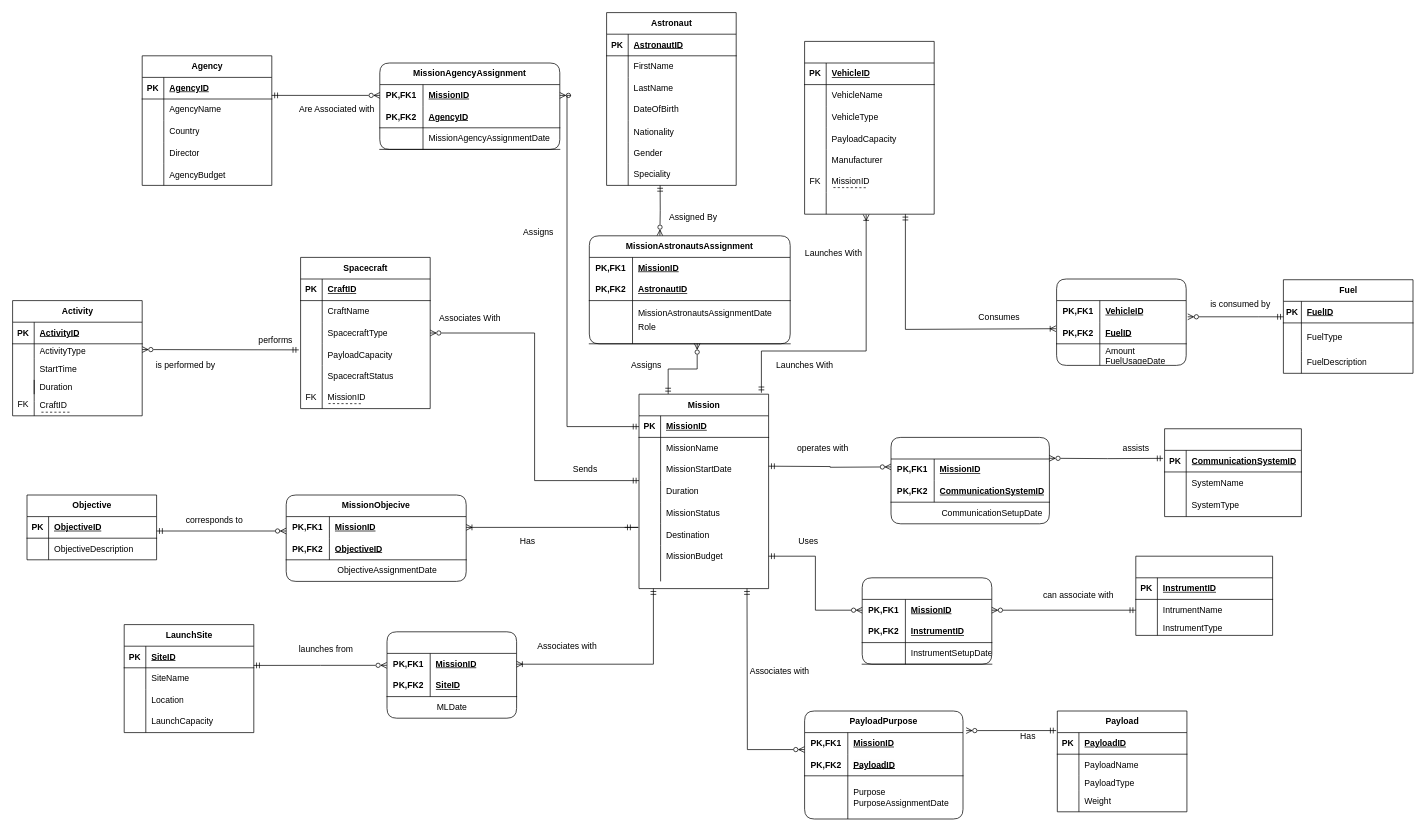
The diagram is 1426 pixels wide and 832 high, and some of its shapes have lost their labels. Here are the shapes that lost their labels. From the top down, the box of each, then its label:
(804, 41, 934, 214): LaunchVehicle
(1056, 278, 1186, 365): VehicleFuelConsumption
(890, 437, 1049, 524): MissionCommunications
(1164, 428, 1301, 517): ComunicationSystem
(1135, 555, 1273, 635): ScientificInstrument
(861, 577, 992, 664): InstrumentAssignment
(386, 631, 517, 718): MissionLaunch
